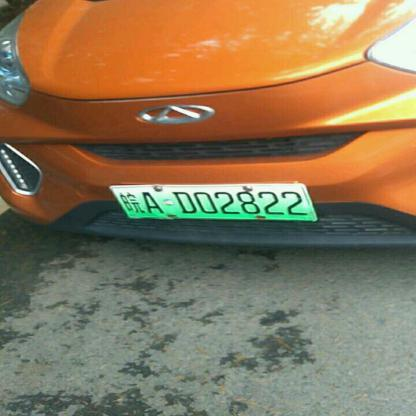lp: (109, 185, 317, 220)
